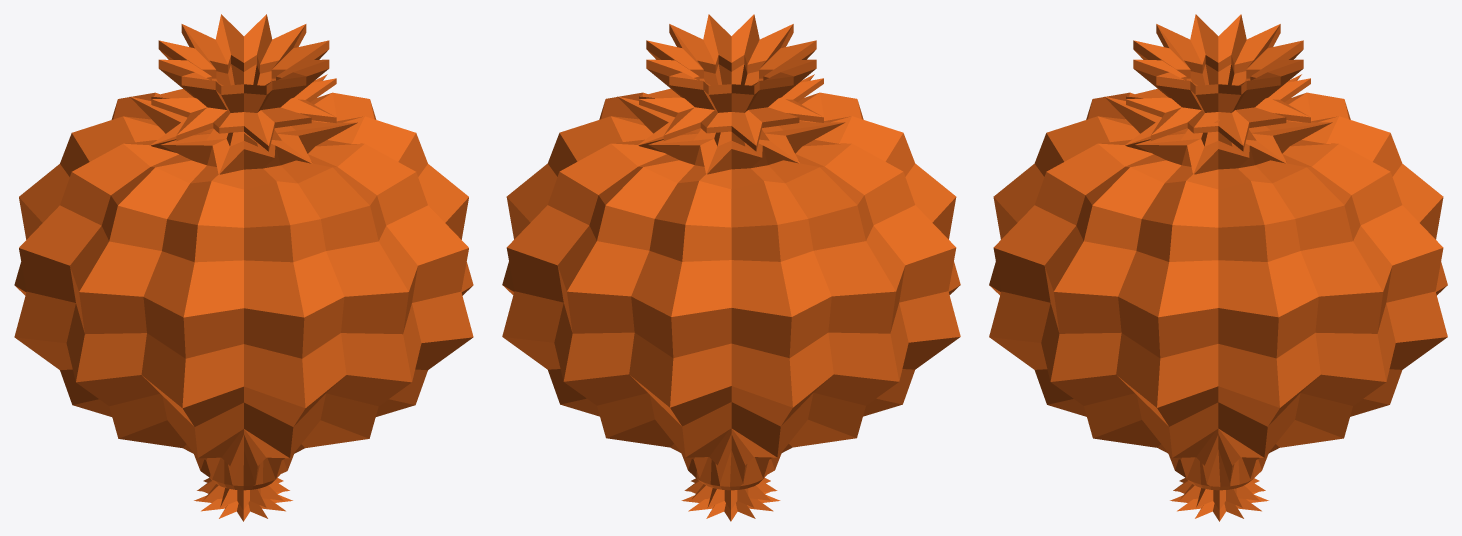
File: crystal.fbx
The picture shows the model from 3 angles, left to right: view 1: azimuth 30°, elevation 25°; view 2: azimuth 150°, elevation 25°; view 3: azimuth 270°, elevation 25°; orthographic projection.
Visible parts, largest first — view 1: crystal; view 2: crystal; view 3: crystal.
Part boxes in pixels (x1,y1,x2,y2): crystal: [14, 14, 473, 521]; crystal: [502, 14, 960, 521]; crystal: [989, 14, 1447, 521].
Size of the model in its own units: 157 by 170 by 157.
